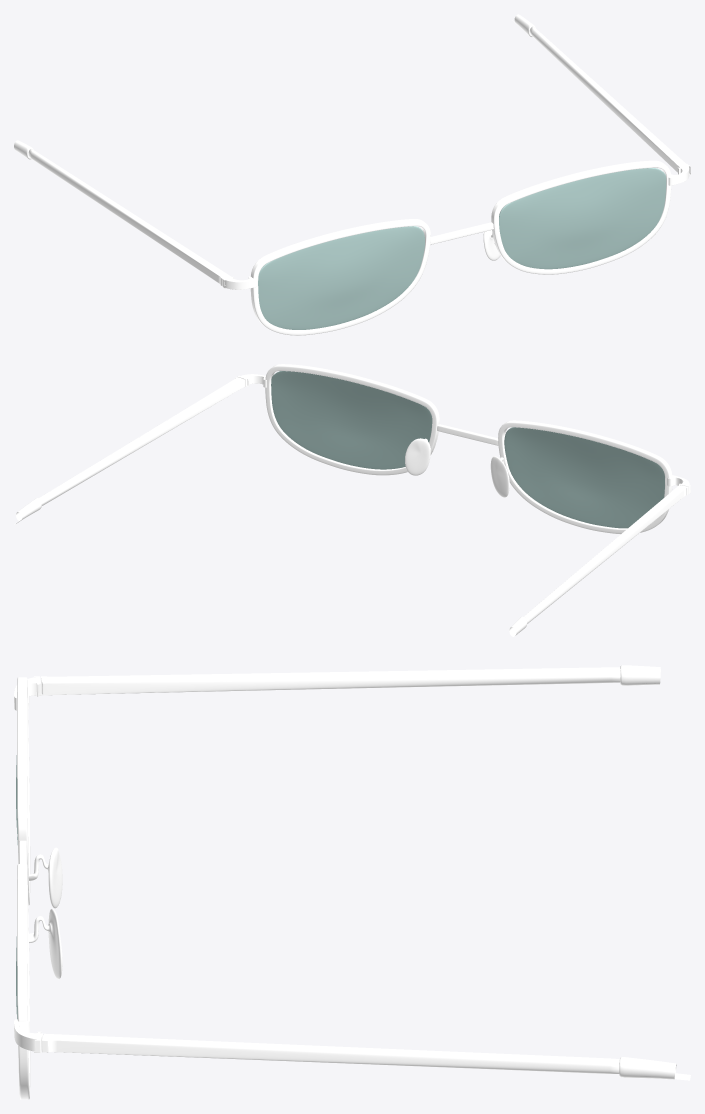
The model's file is rectangle-eyeglasses-gray.glb.
3 views of the same model, one above another, from view 1: azimuth 30°, elevation 25°; view 2: azimuth 150°, elevation 25°; view 3: azimuth 270°, elevation 25° (orthographic). The views are drawn at different scales.
Parts seen in each view (by area): view 1: main, right, left_ear; view 2: main, left_ear, right; view 3: left_ear, right, main.
Part boxes in pixels (x1,y1,x2,y2): main: (225, 160, 689, 335); right: (14, 140, 232, 288); left_ear: (512, 14, 690, 174); main: (241, 364, 689, 534); left_ear: (14, 375, 246, 524); right: (509, 484, 690, 636); left_ear: (34, 1033, 690, 1080); right: (34, 665, 660, 695); main: (14, 677, 62, 1099).
Size of the model in its own units: 2.22 by 0.4027 by 1.59.
Materials: 2 (1 with a texture image).
